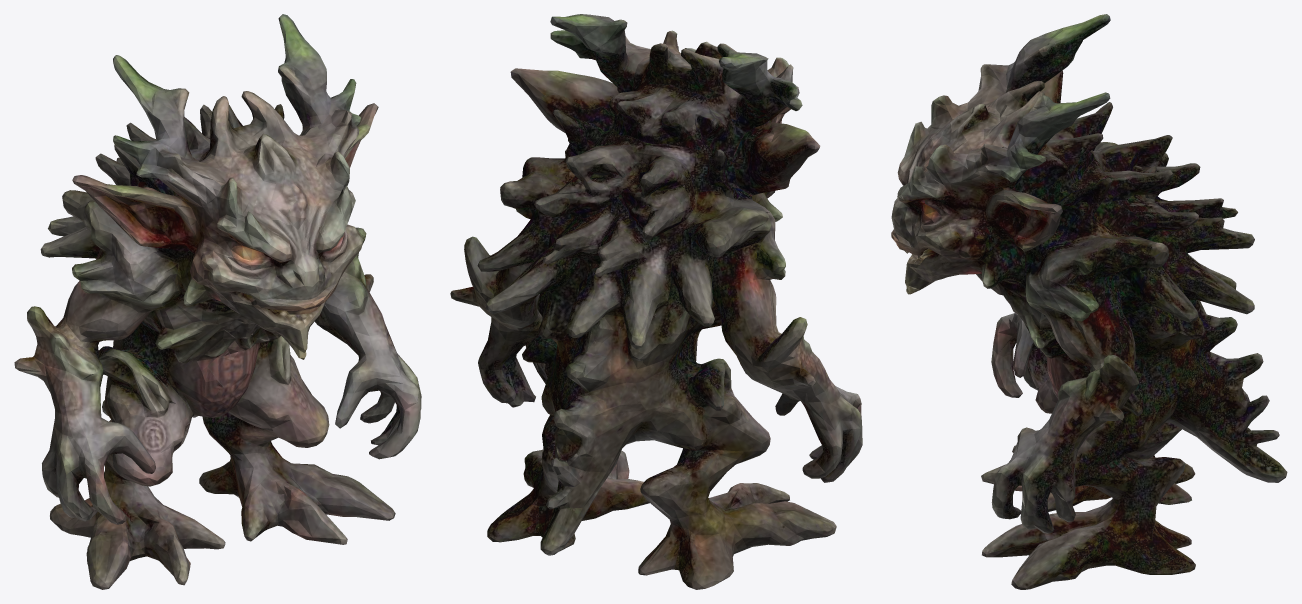
File: mangroveImp.glb
3 renders of one model, left to right at view 1: azimuth 30°, elevation 25°; view 2: azimuth 150°, elevation 25°; view 3: azimuth 270°, elevation 25°, orthographic. The views are drawn at different scales.
Visible parts, largest first — view 1: world; view 2: world; view 3: world.
Part boxes in pixels (x1=…): world: x1=14, y1=14, x2=421, y2=589; world: x1=450, y1=14, x2=862, y2=589; world: x1=891, y1=14, x2=1287, y2=589.
Size of the model in its own units: 0.773 by 0.9994 by 0.7644.
Materials: 1 (1 with a texture image).
